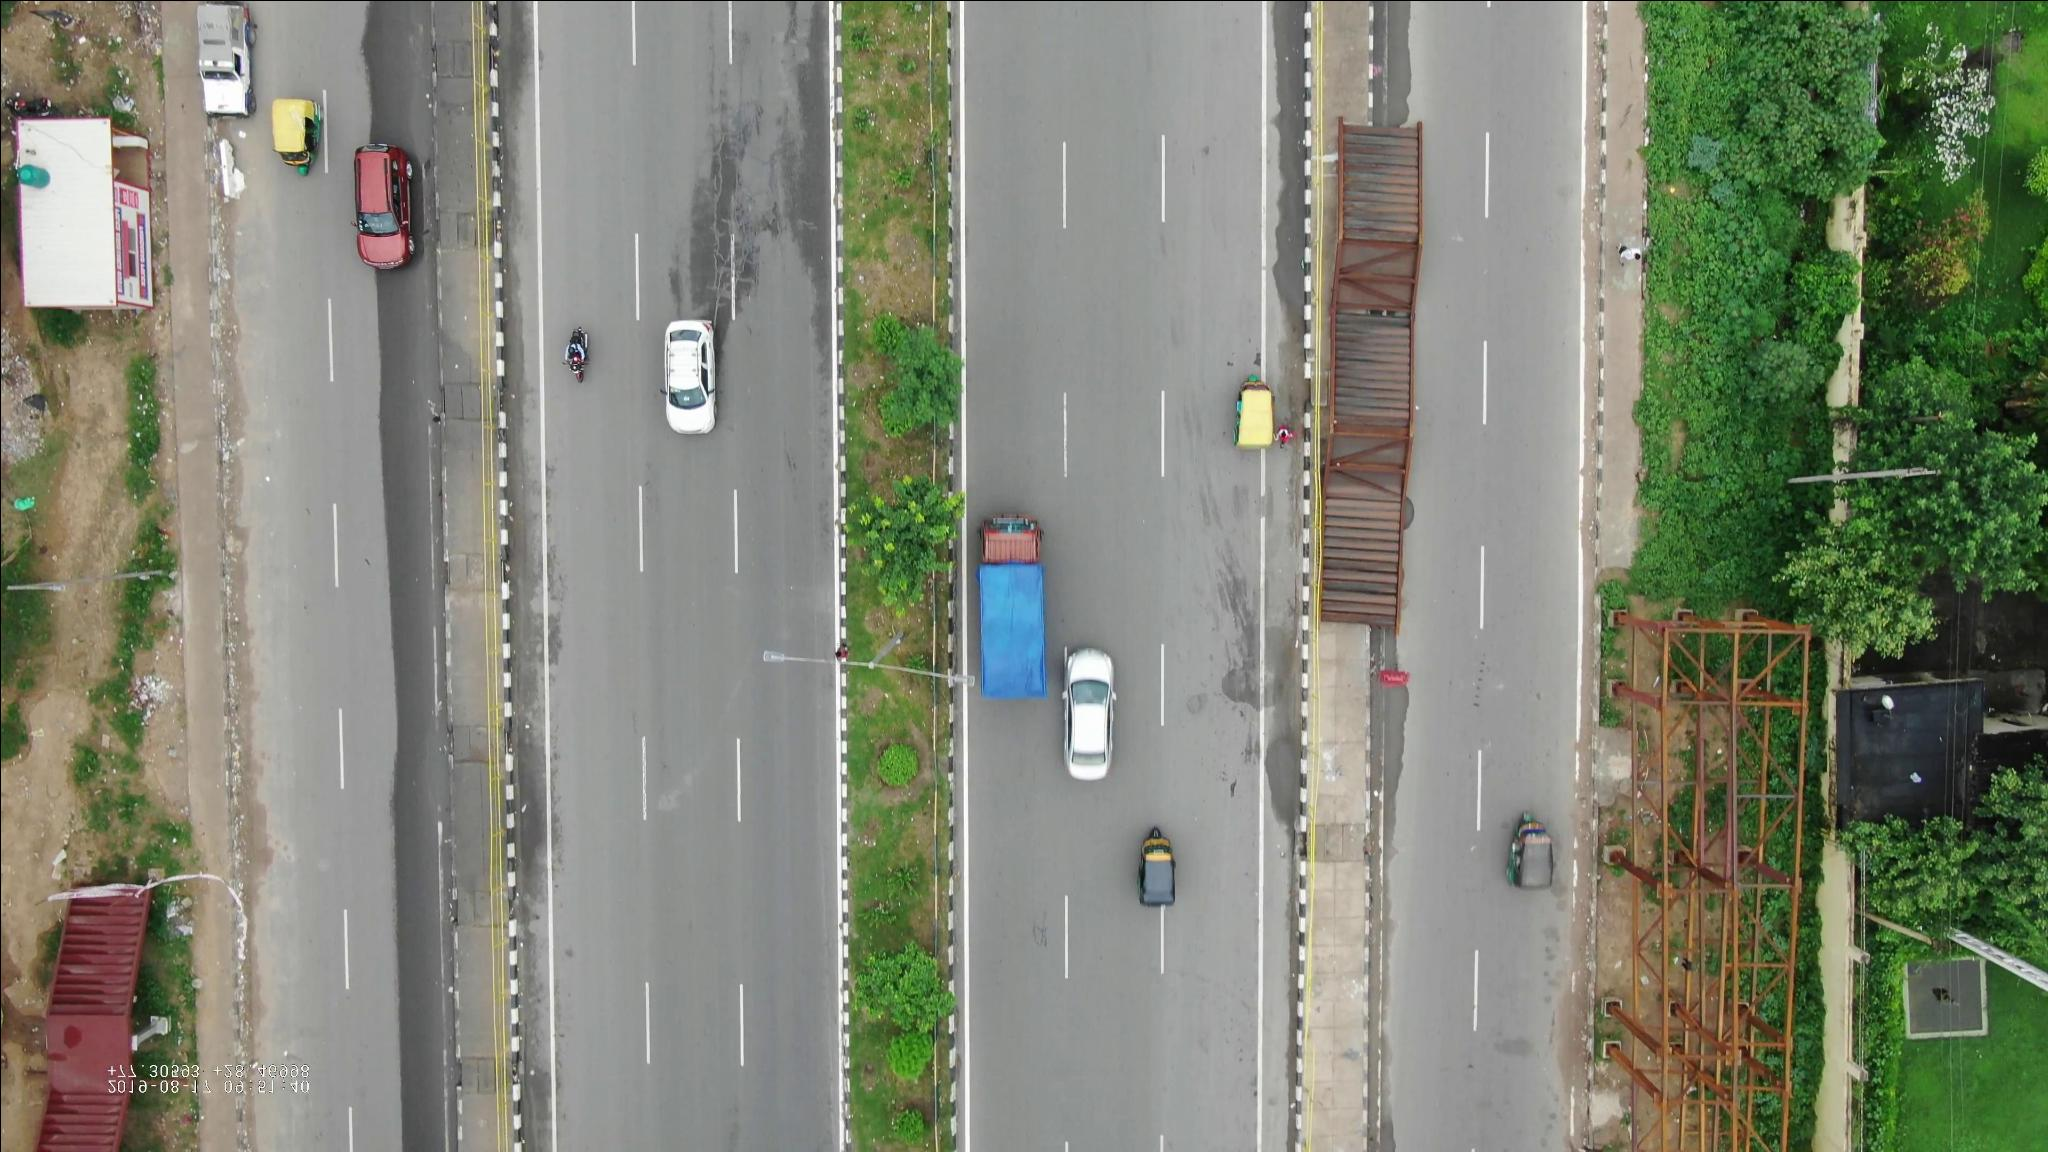Cracks: (677, 101, 799, 308), (1023, 904, 1056, 971)
Road_side_garbage: (111, 664, 174, 729)
